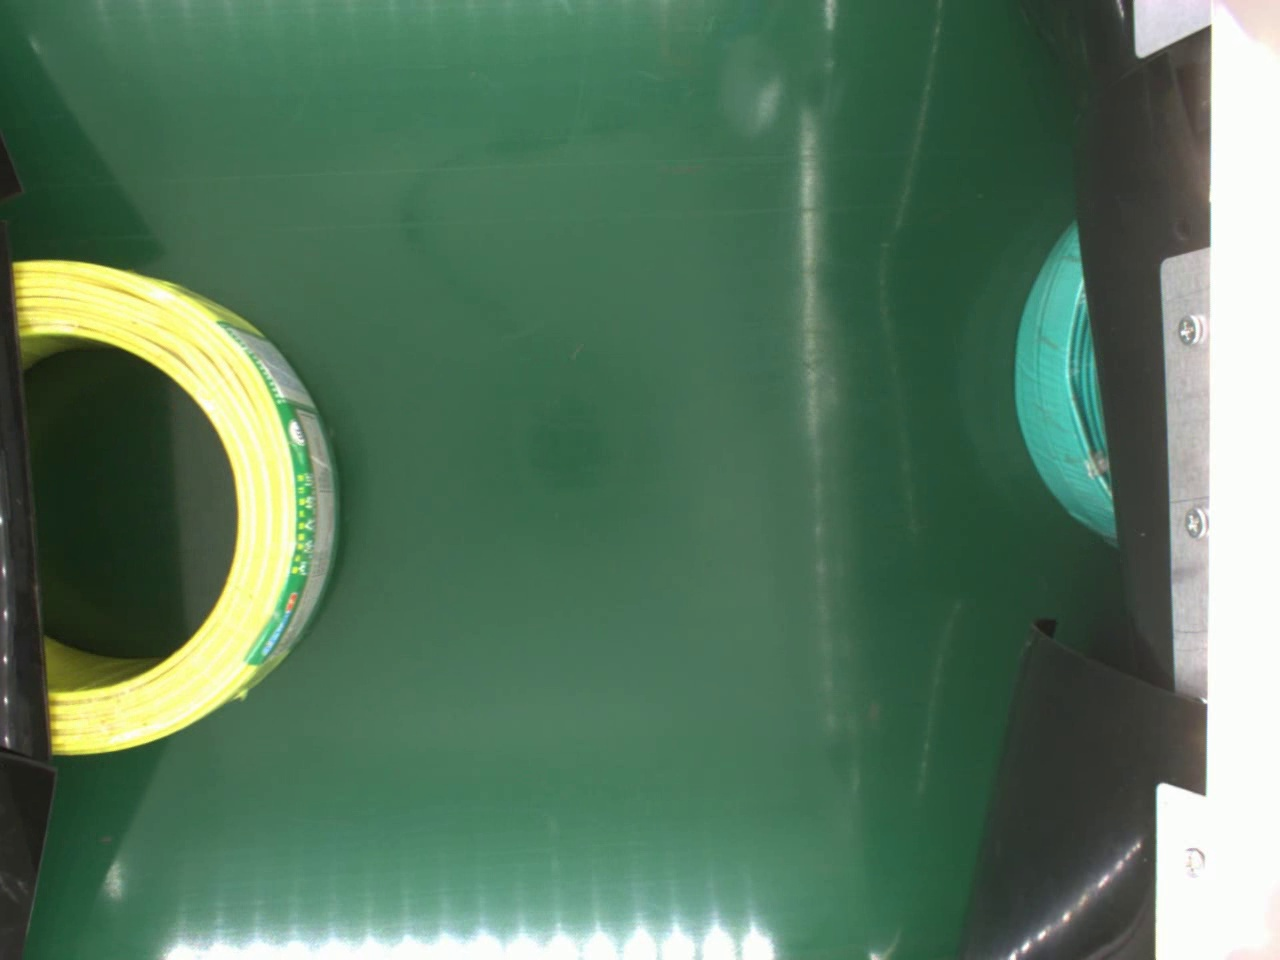yellow: (9, 249, 343, 757)
